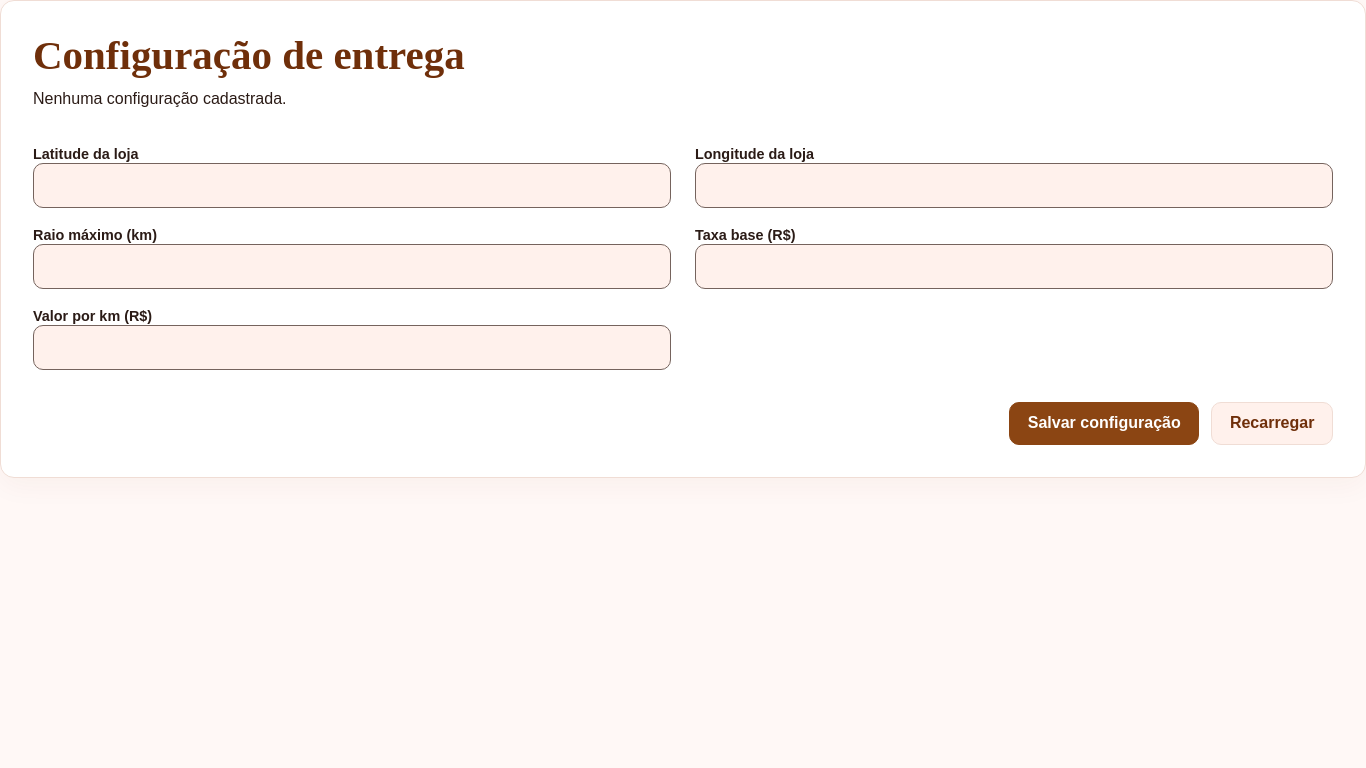
Test: 404 oferece configuração inicial e erro de rede preserva os valores
Expected: the text "Nenhuma configuração cadastrada." is shown, [33,90,286,107]
Type "0" into the field labelled "Latitude da loja" at (352, 185), box [33,163,671,208]
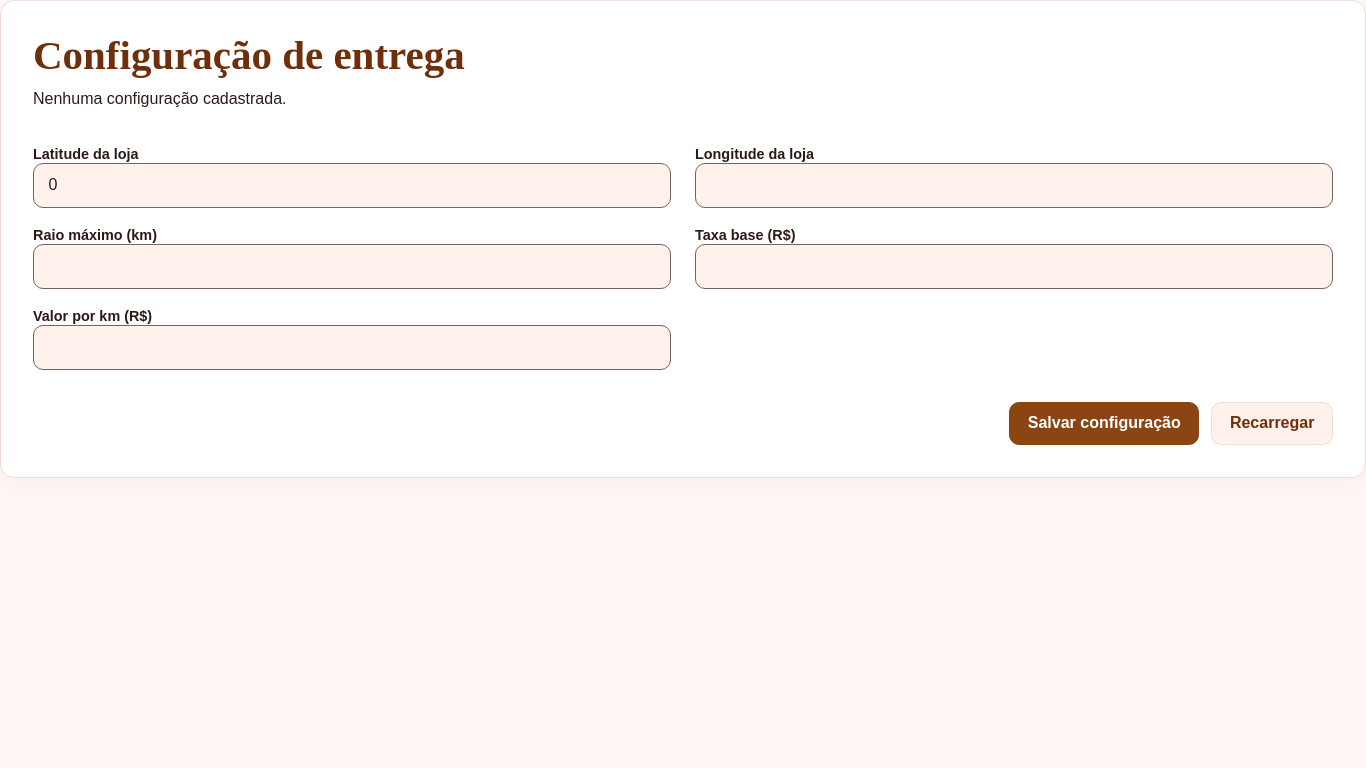
Type "0" into the field labelled "Longitude da loja" at (1014, 185), box [695,163,1333,208]
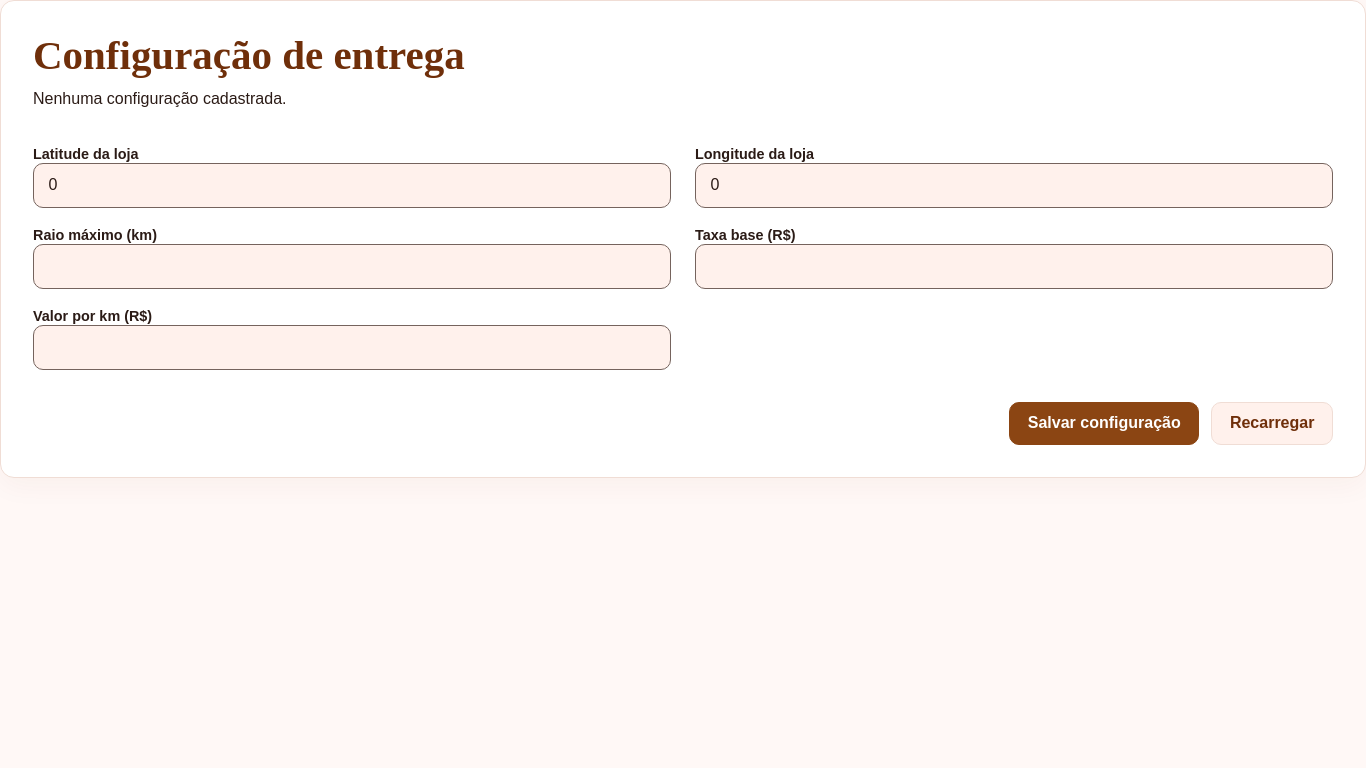
Type "0" into the field labelled "Raio máximo (km)" at (352, 266), box [33,244,671,289]
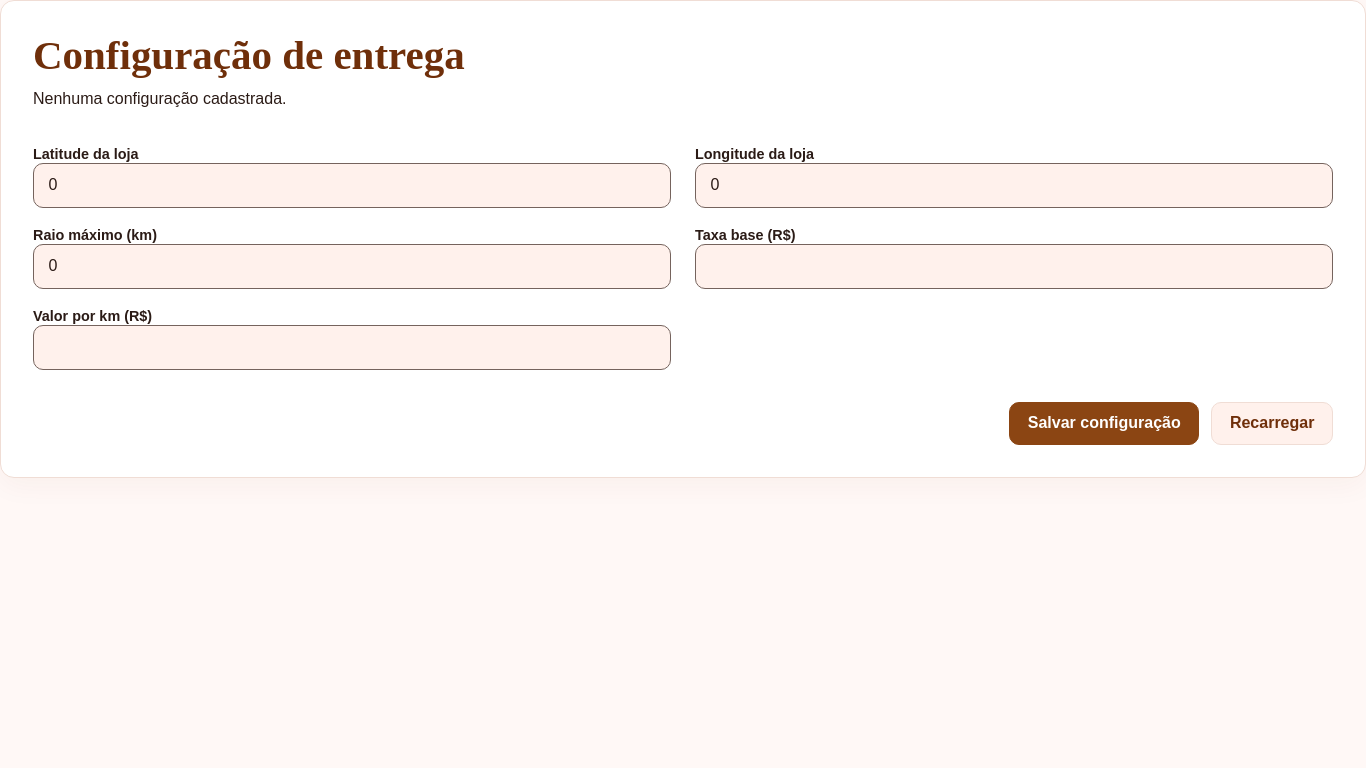
Type "0" into the field labelled "Taxa base (R$)" at (1014, 266), box [695,244,1333,289]
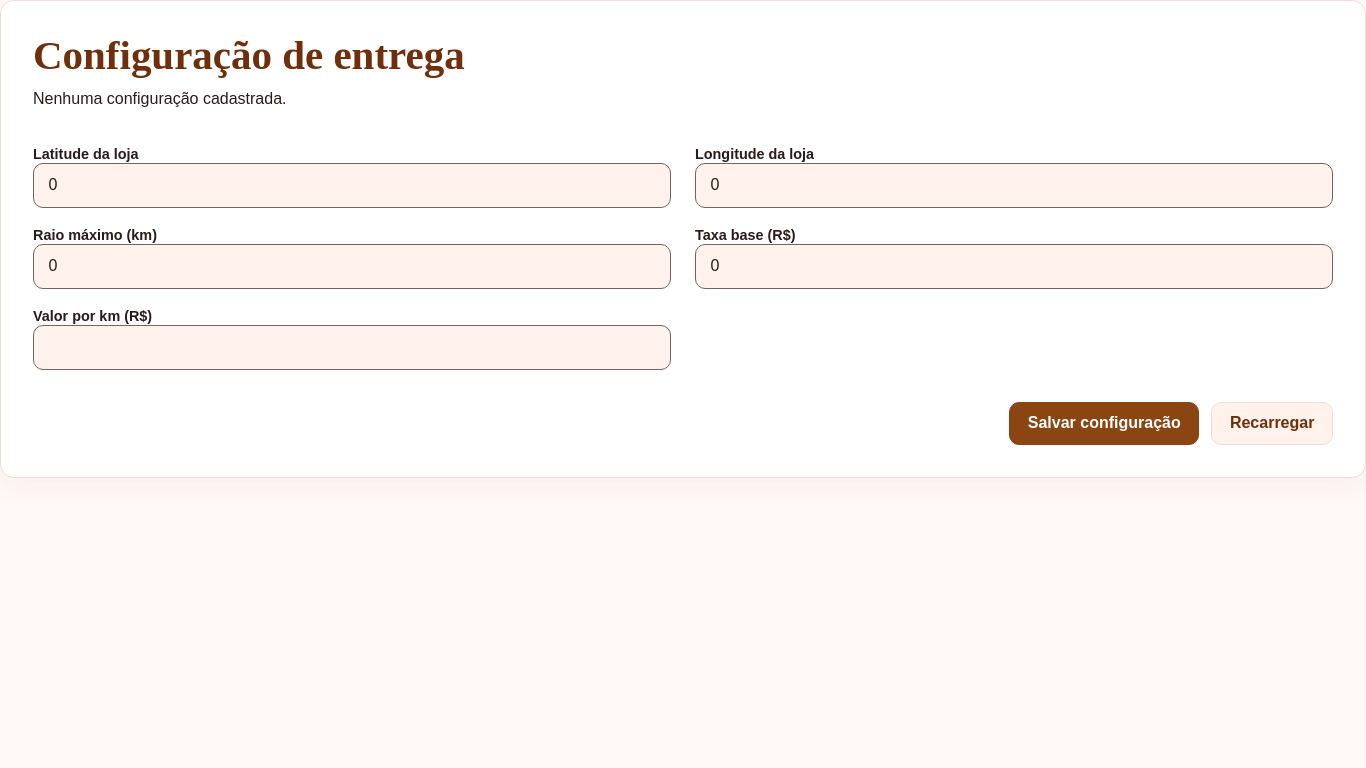
Type "0" into the field labelled "Valor por km (R$)" at (352, 347), box [33,325,671,370]
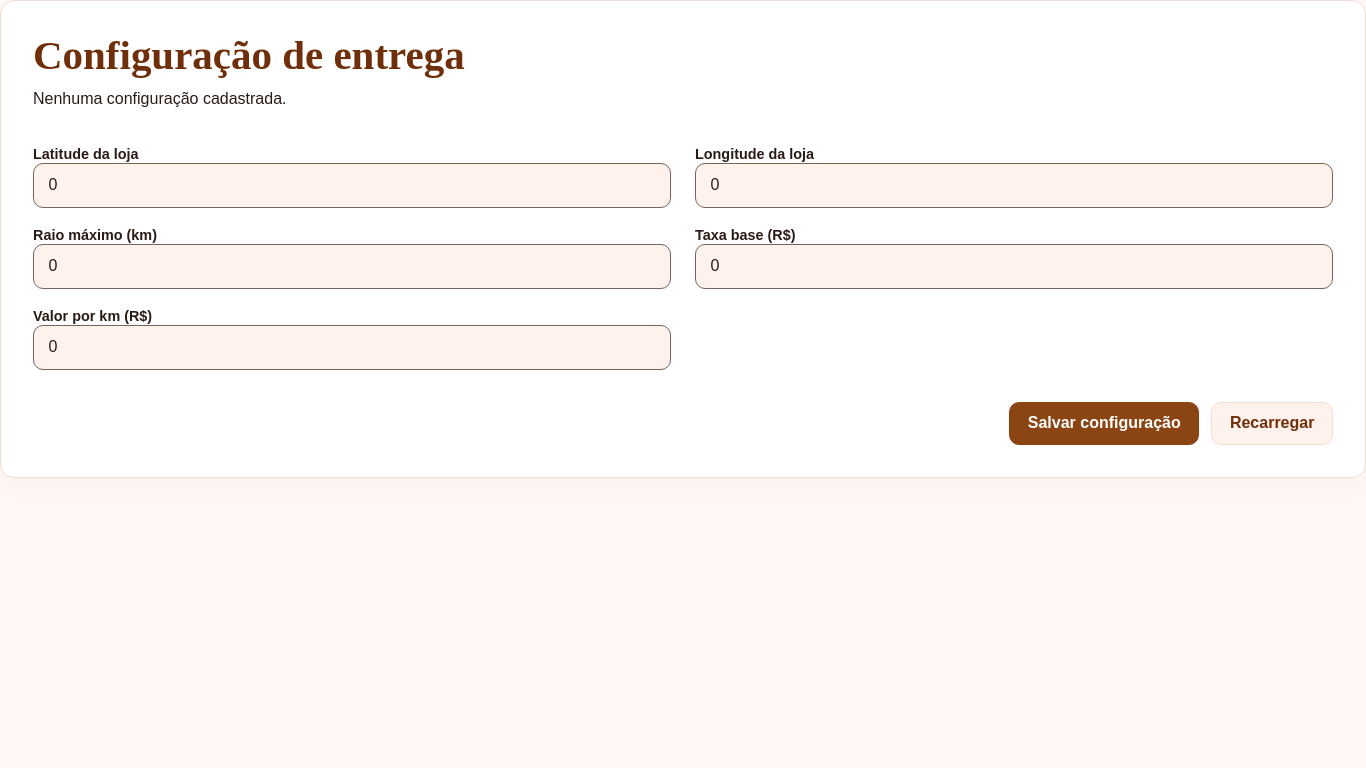
Click the button "Salvar configuração" at (1104, 423), box [1009,402,1199,445]
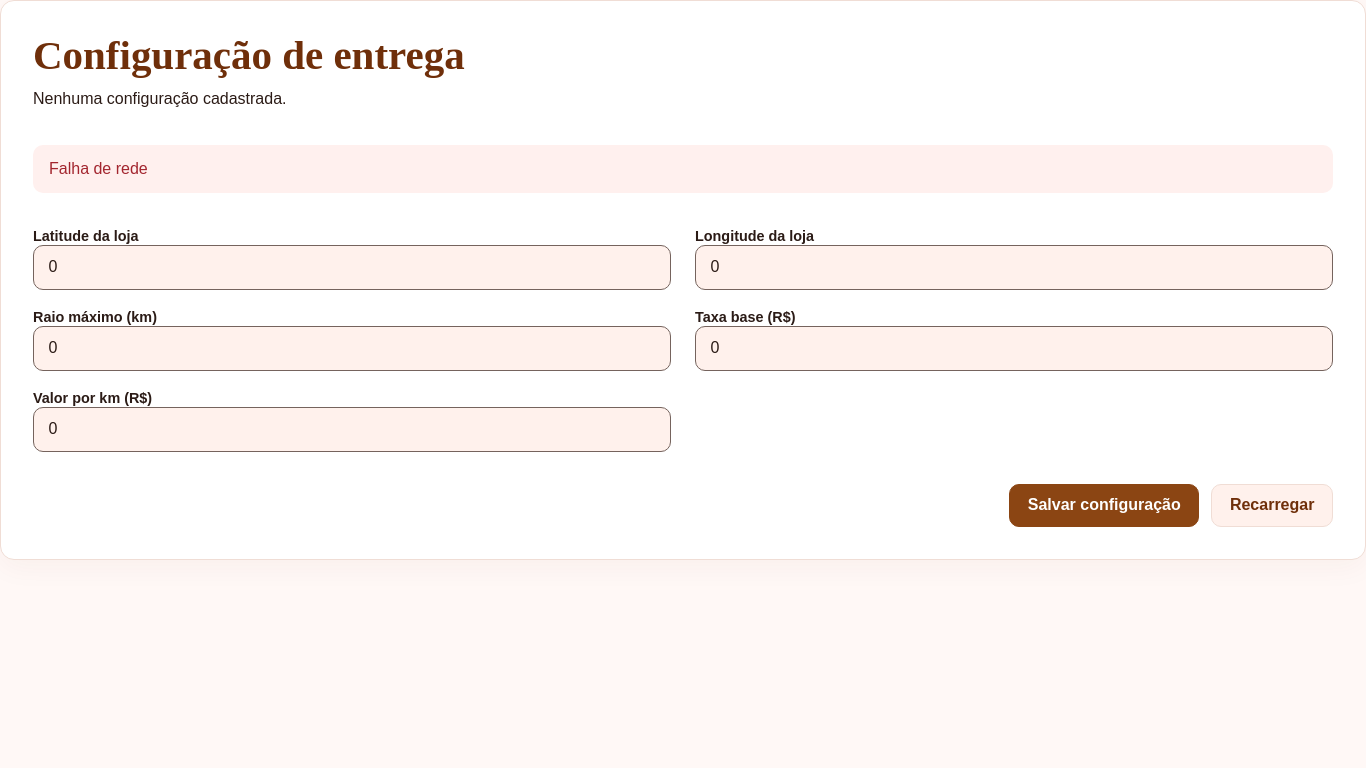
Result: the message "Falha de rede" is shown at [33,145,1333,193]
